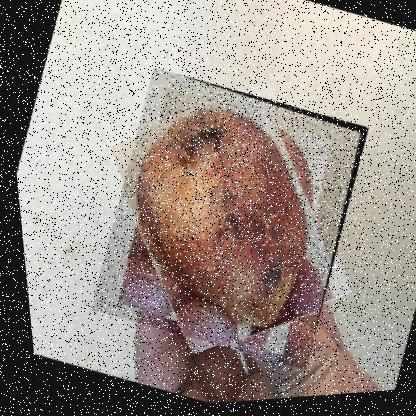guava_rotten: (66, 55, 384, 386)
